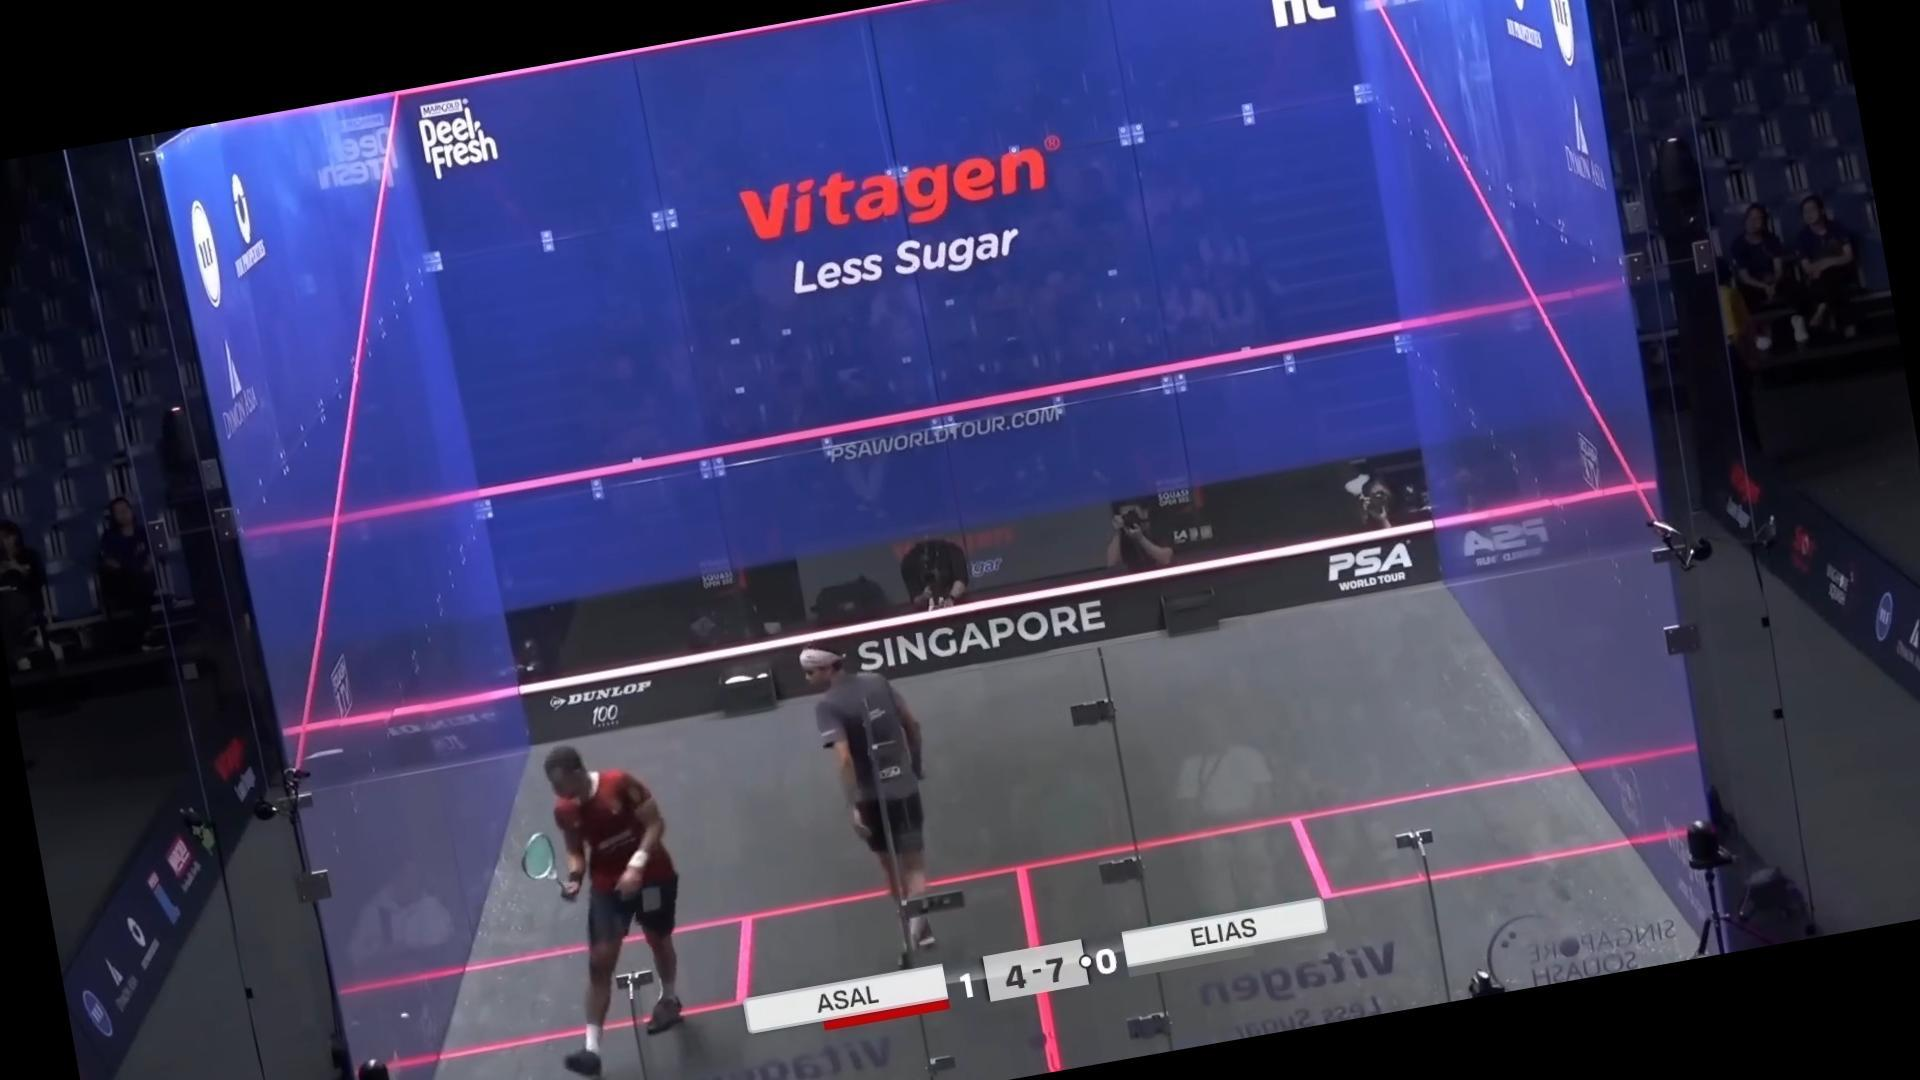Squash-Ball: (386, 994, 425, 1039)
